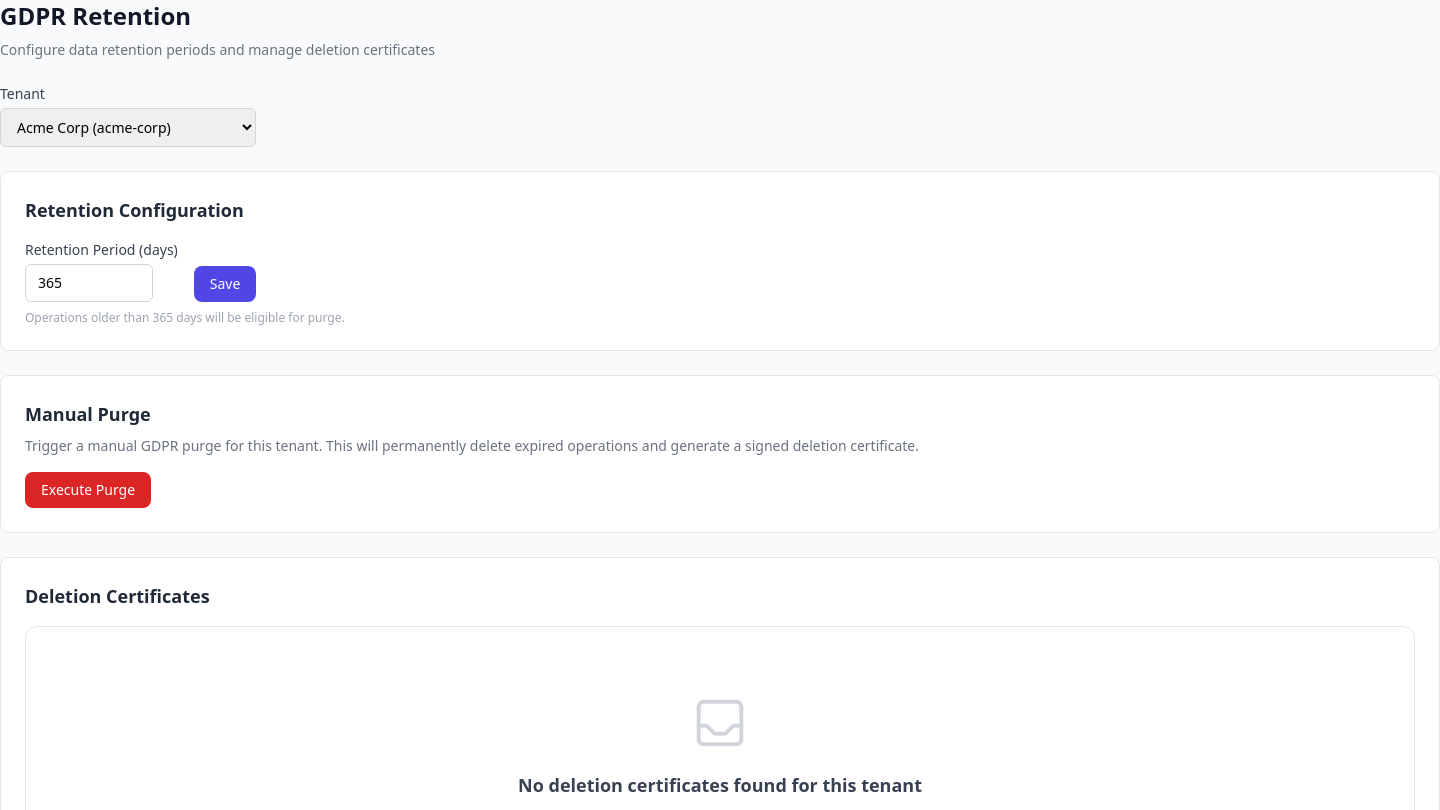
RetentionPage › shows purge confirmation modal on button click
Click the button "Execute Purge" at point(88, 490), box [25,472,151,508]
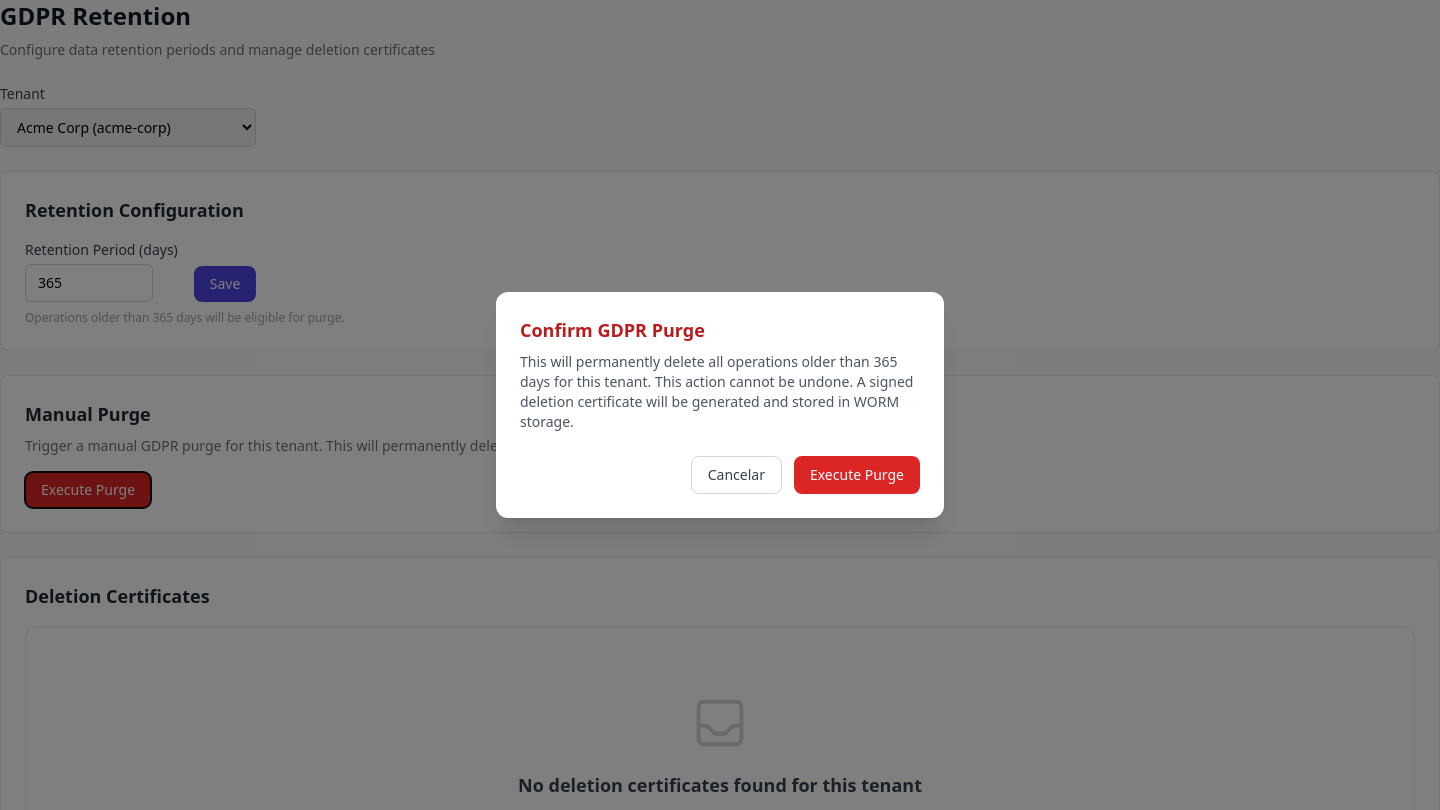
Expected: the heading "Confirm GDPR Purge" is shown, [520,318,705,342]
